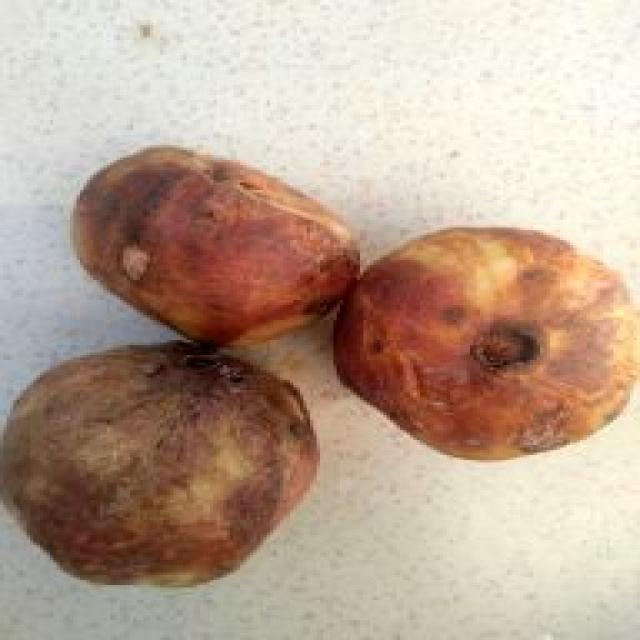Bad_Guava: (3, 341, 318, 584), (335, 229, 638, 458), (73, 148, 358, 344)
